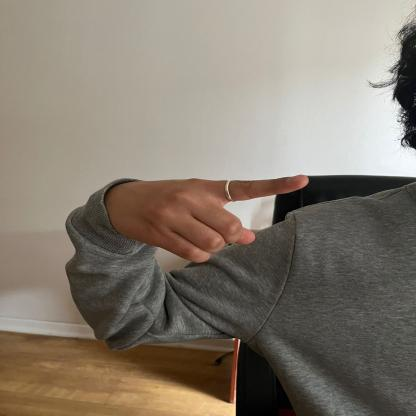S: (103, 162, 313, 268)
